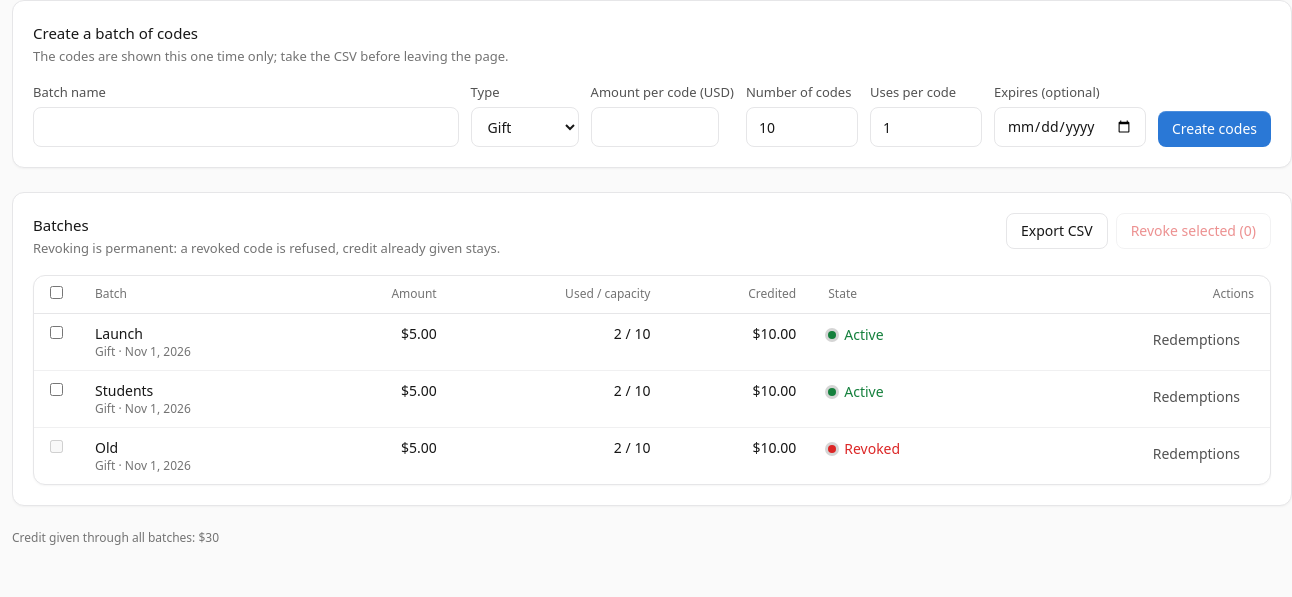
Test: billing gift codes (card 25.1) › revokes the selected batches together after a confirmation
The width and height of the screenshot is (1292, 597).
What coordinates should you click on to do the following:
click the checkbox named "Select all active batches"
I would click on:
 (56, 292)
Its box is [50,286,63,299].
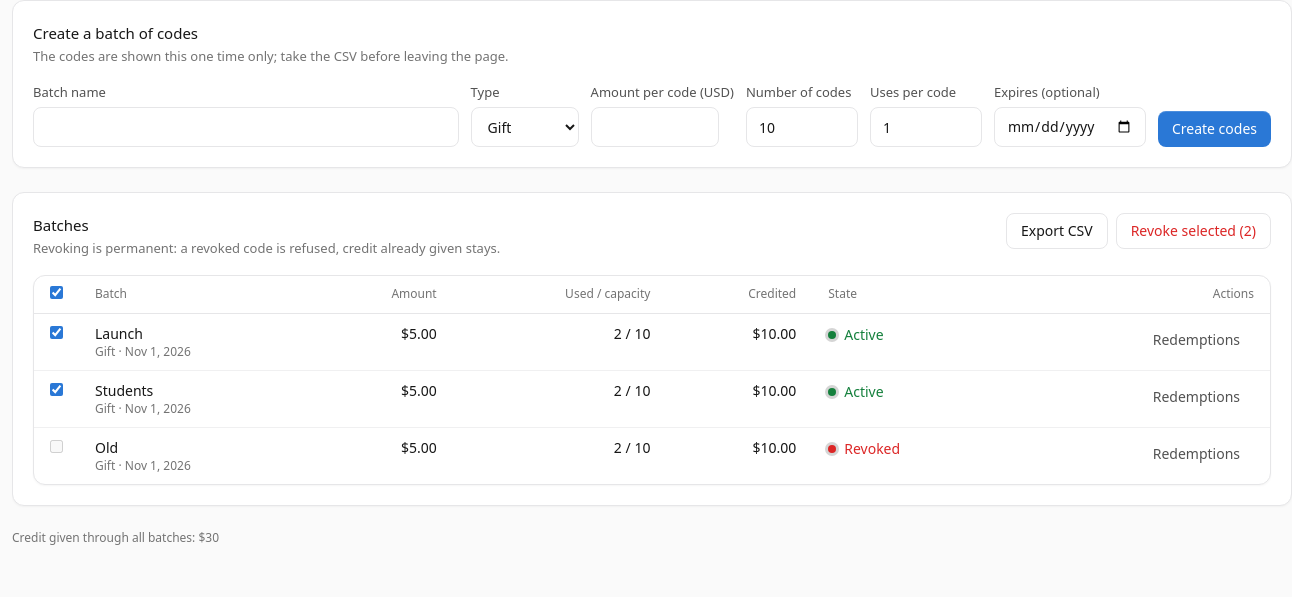
What coordinates should you click on to do the following:
click the button "Revoke selected (2)"
I would click on:
 (1193, 231)
Its box is [1116,213,1271,249].
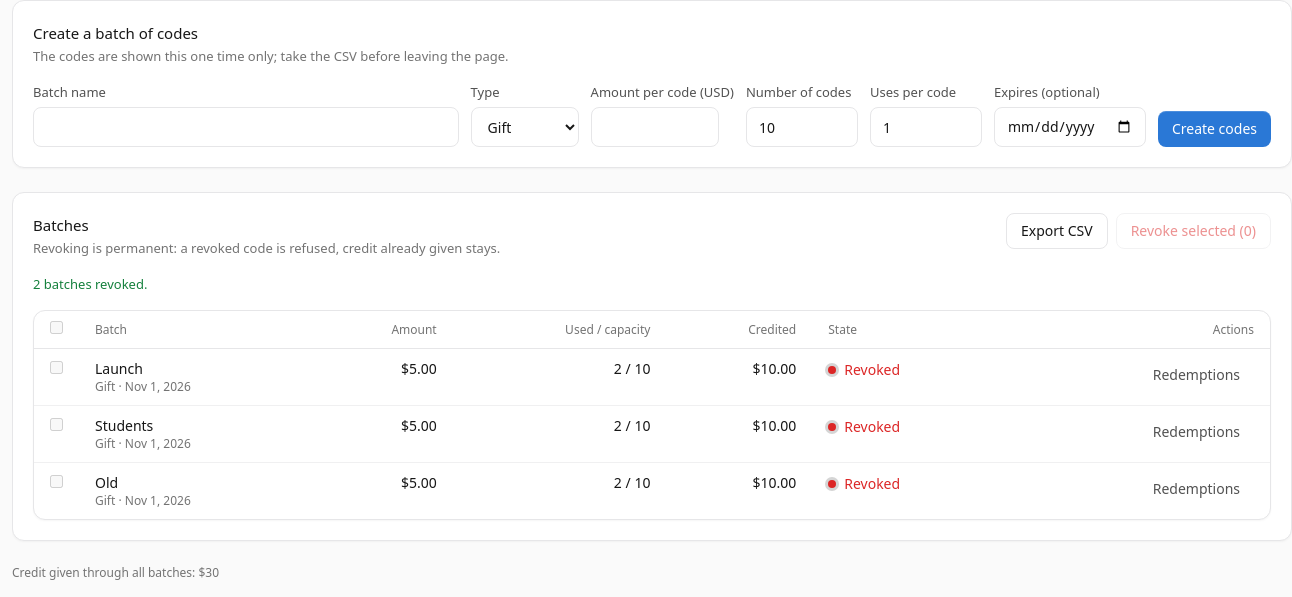
Check: the text "2 batches revoked." is shown, box [33,275,147,293]
Check: the text "Revoked" is shown 3 times, box [844,360,900,380]; [844,417,900,437]; [844,474,900,494]
